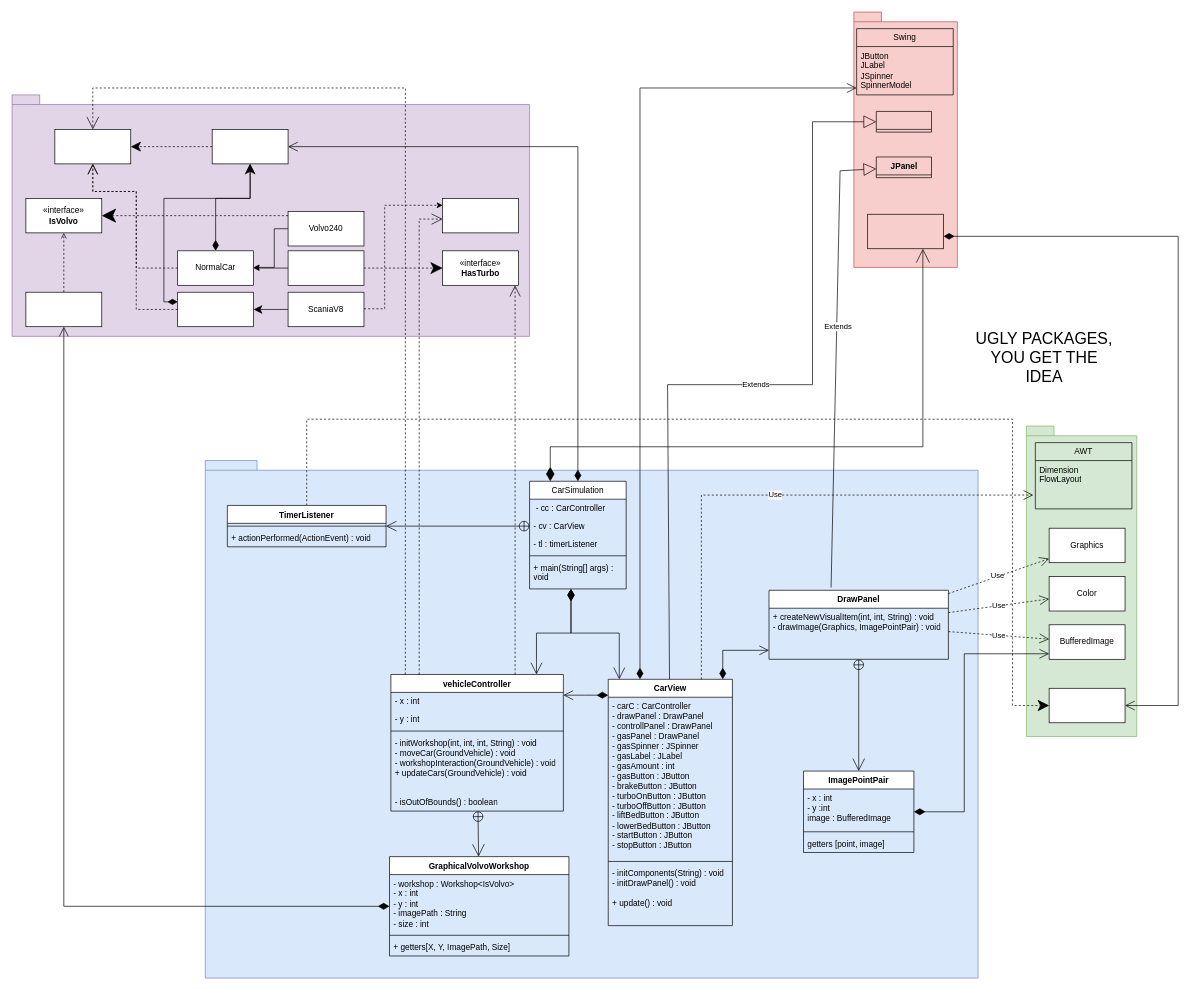
Some shapes in this 1201 by 990 pixel diagram are drawn without their labels. Each missing label, with the centre of its shape:
ActionListener: the point at 1086,705
GroundVehicle: the point at 249,146
JFrame: the point at 903,121
Saab95: the point at 325,267
Timer: the point at 905,231
Truck: the point at 215,309
Workshop <IsVolvo>: the point at 63,309
«interface» IsVehicle: the point at 92,146
«interface» TIppable: the point at 480,215
